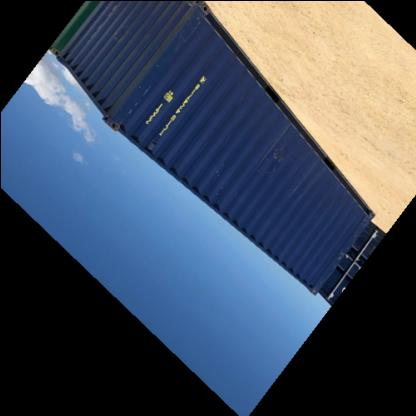Damage: (261, 134, 294, 184)
